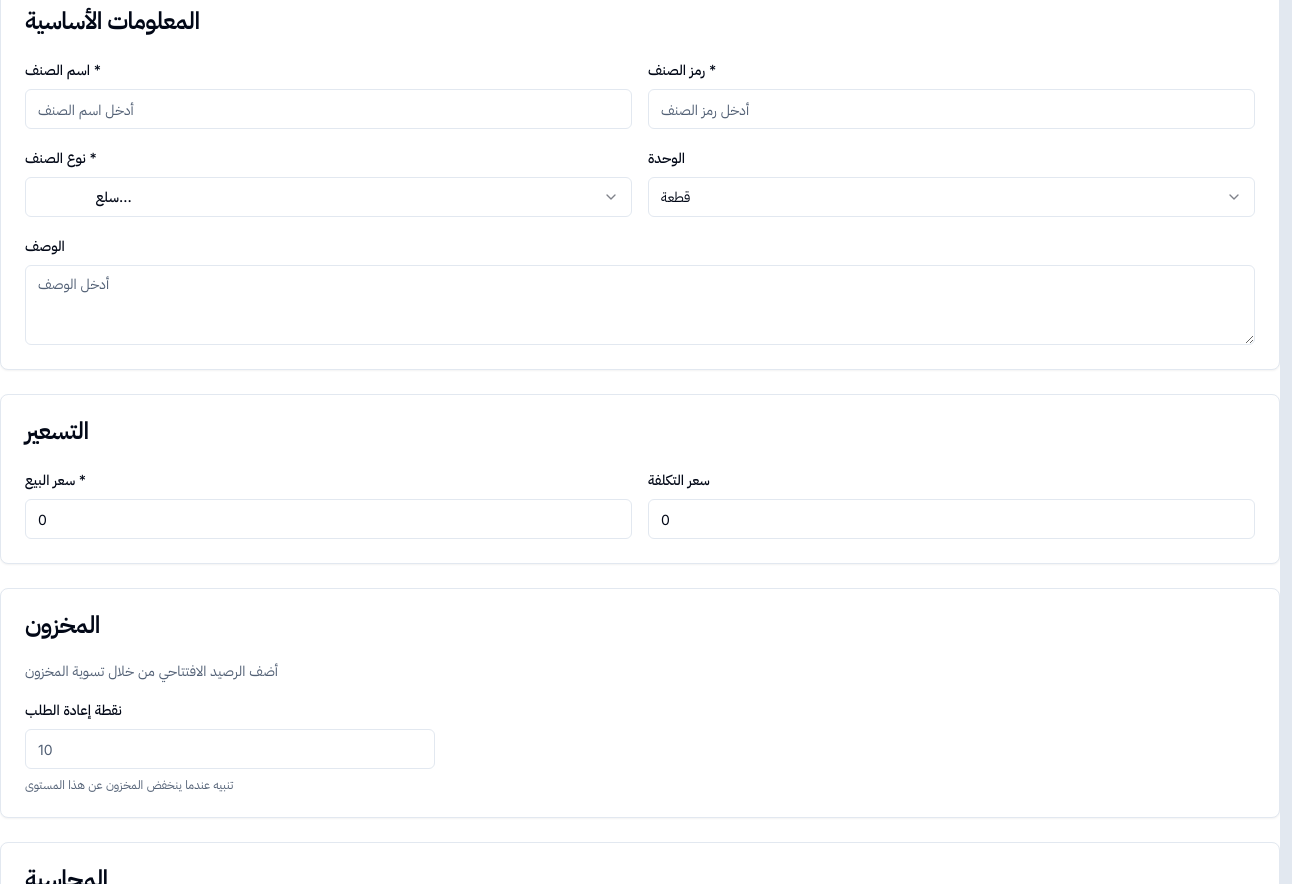
Test case: ItemForm › requires a SKU and a valid price, in Arabic
Type "صنف" into the field labelled "اسم الصنف *".
click(328, 109); type("صنف")  # box top-left (25, 89), bottom-right (632, 129)
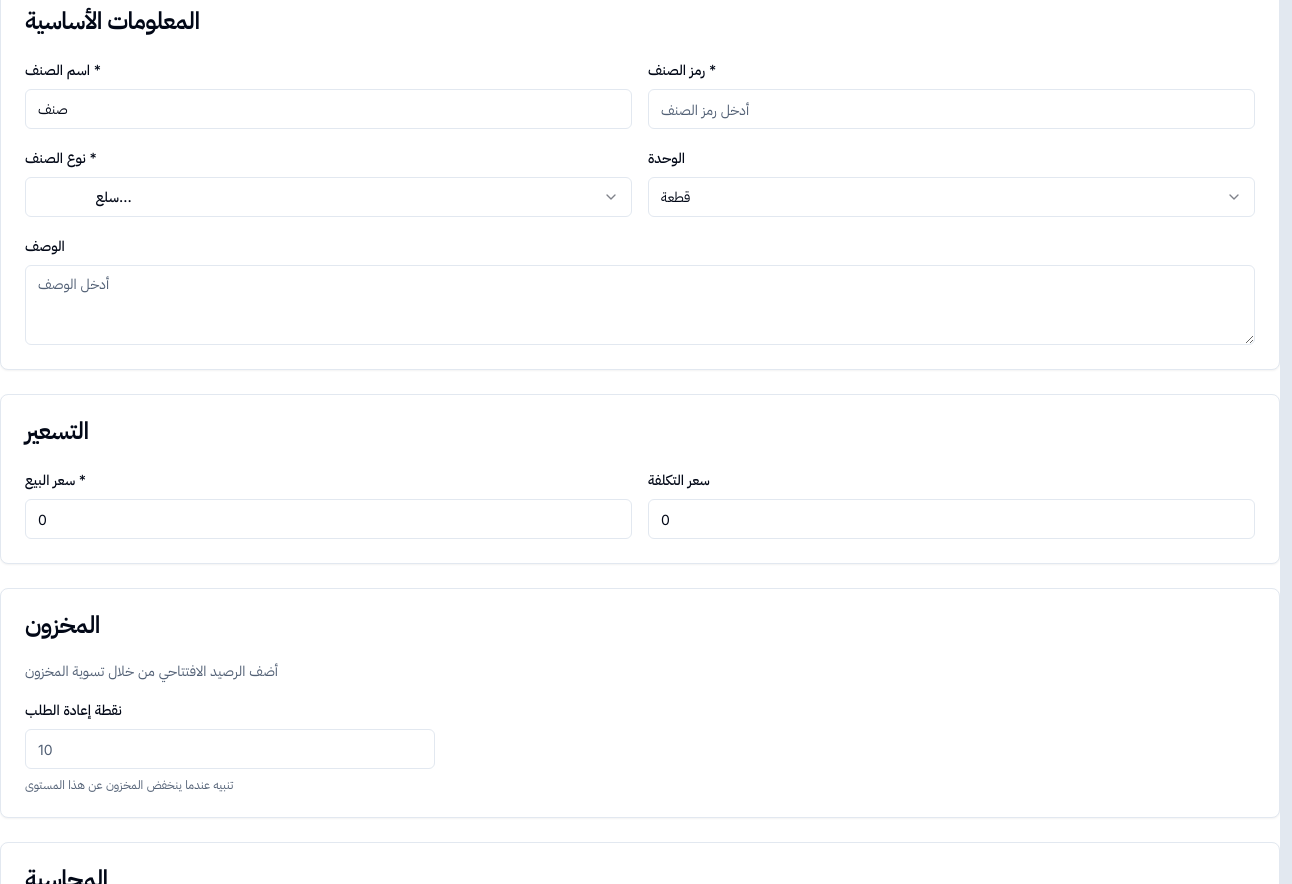
Replace the text in the field labelled "سعر البيع *" with "1.23456" at (328, 519), box top-left (25, 499), bottom-right (632, 539)
(page scrolled)
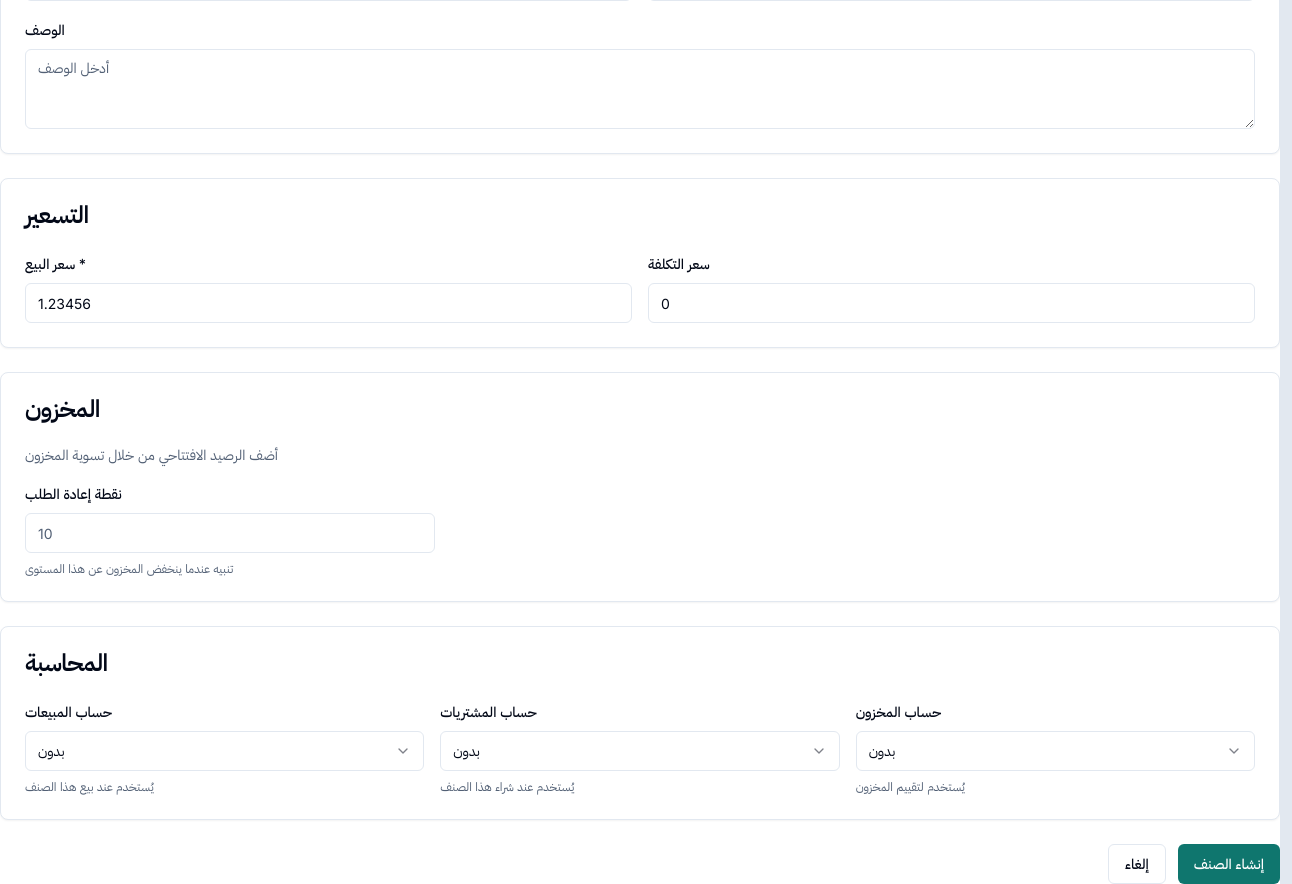
Click the button "إنشاء الصنف".
click(1229, 864)  # box top-left (1178, 844), bottom-right (1280, 883)
(page scrolled)
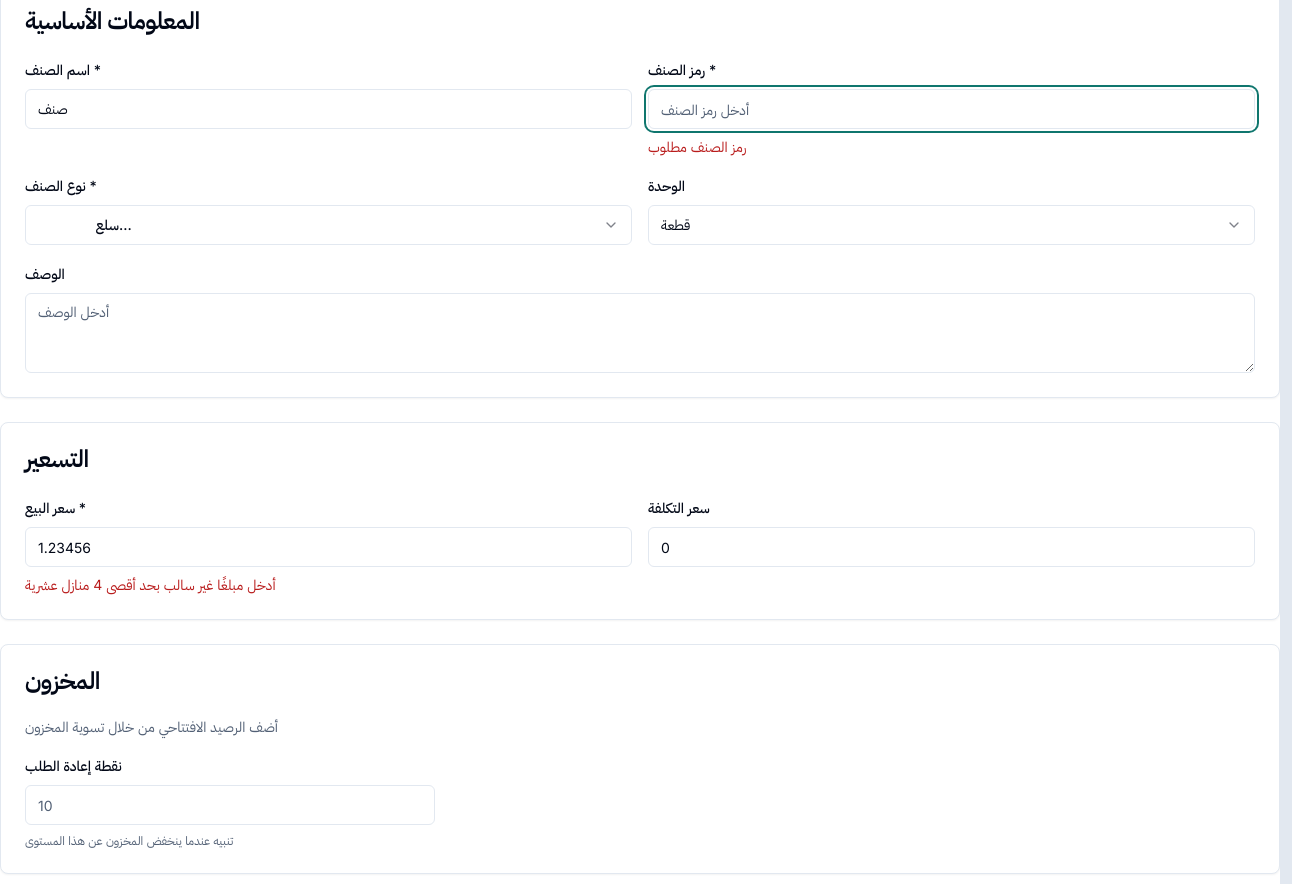
Result: the text "رمز الصنف مطلوب" is shown at top-left (648, 138), bottom-right (746, 155)
Result: the text "أدخل مبلغًا غير سالب بحد أقصى 4 منازل عشرية" is shown at top-left (25, 576), bottom-right (276, 593)
